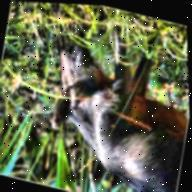boar: (19, 14, 192, 192)
